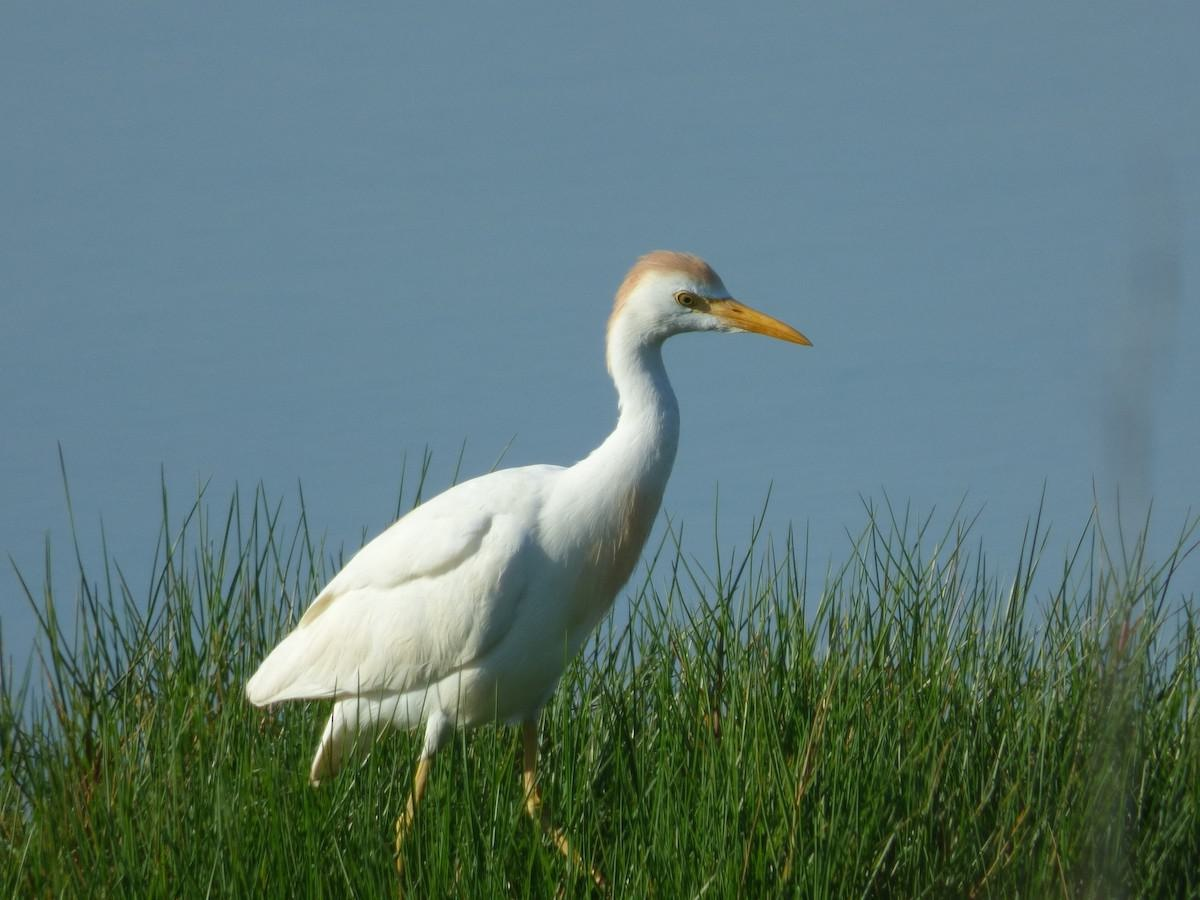egret: (281, 245, 823, 855)
